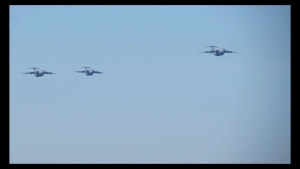flight: (197, 44, 237, 56), (20, 66, 57, 77), (72, 65, 106, 76)
